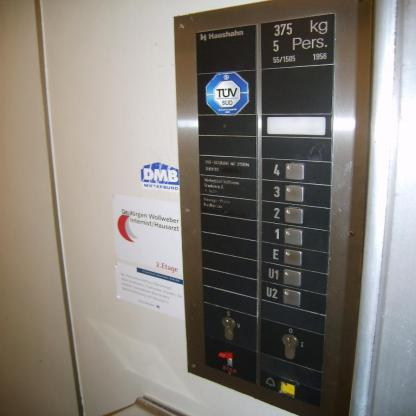1: (259, 223, 331, 249)
2: (260, 200, 332, 230)
3: (260, 180, 333, 209)
4: (260, 156, 333, 186)
E: (259, 242, 330, 272)
U1: (259, 261, 330, 290)
U2: (258, 283, 329, 312)
alarm: (258, 370, 325, 410)
empty: (266, 115, 326, 136)
keyhole: (280, 333, 298, 359), (221, 316, 236, 340)
stop: (216, 351, 238, 374)
